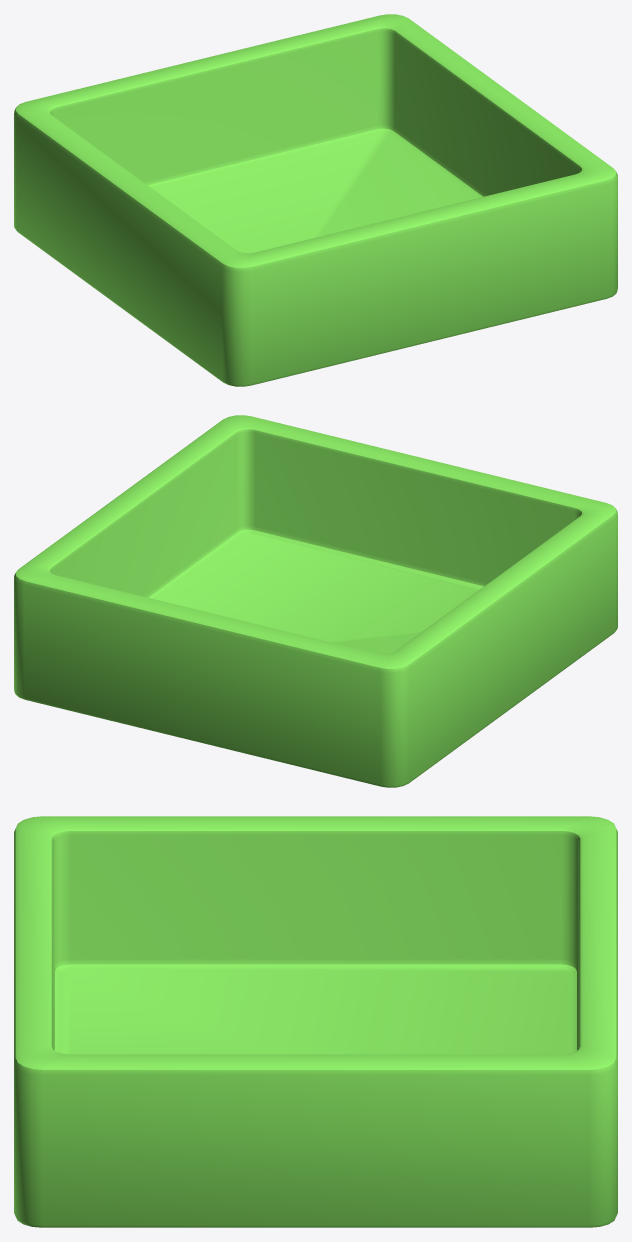
3 renders of one model, top to bottom at view 1: azimuth 30°, elevation 25°; view 2: azimuth 150°, elevation 25°; view 3: azimuth 270°, elevation 25°, orthographic. The views are drawn at different scales.
Visible parts, largest first — view 1: Shape_2x2; view 2: Shape_2x2; view 3: Shape_2x2.
Part boxes in pixels (left/top/right/bottom): Shape_2x2: left=14, top=14, right=617, bottom=386; Shape_2x2: left=14, top=415, right=617, bottom=787; Shape_2x2: left=14, top=816, right=617, bottom=1227.
Bounding box in the file's own units: 1.7 × 0.5 × 1.7.
